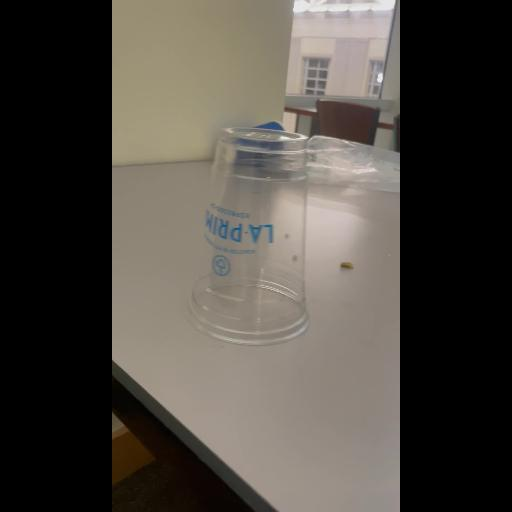lp_plastic_cup: (186, 130, 312, 342)
